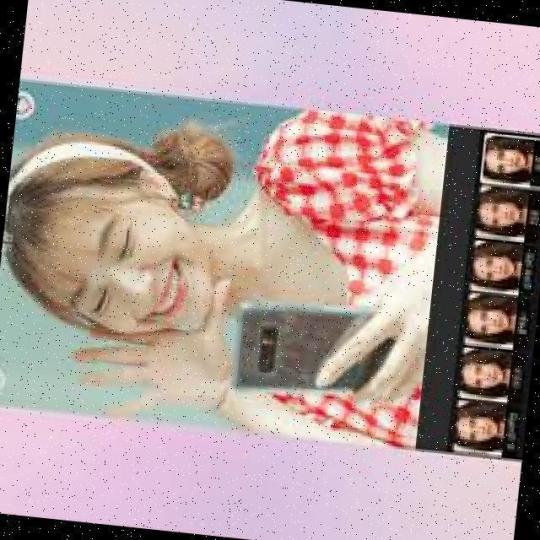phone: (228, 295, 397, 405)
